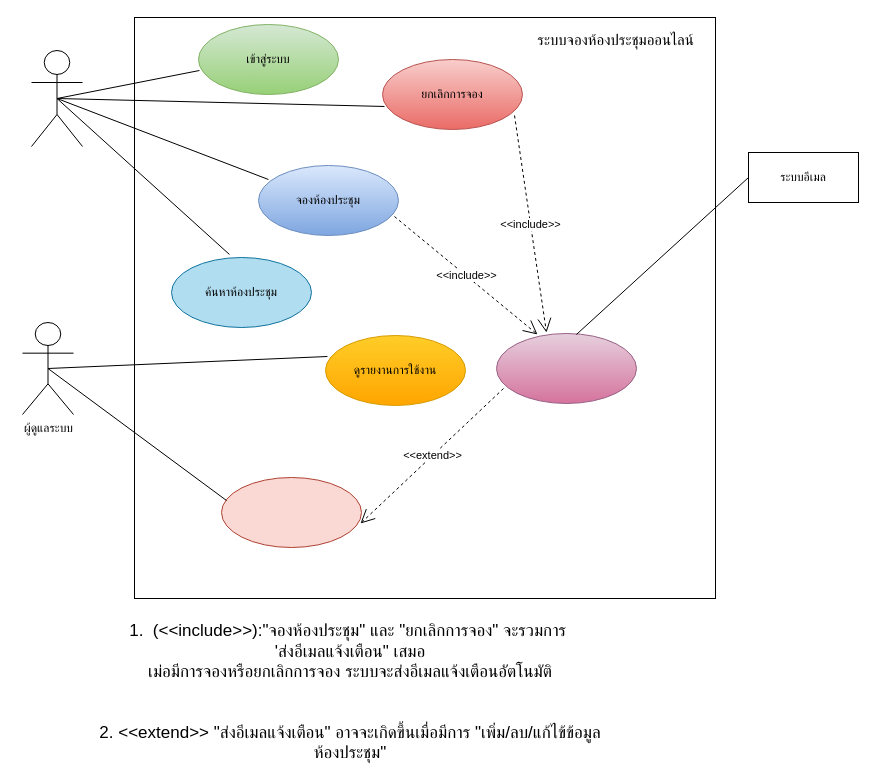
Some shapes in this 876 by 781 pixel diagram are drawn without their labels. Here are the shapes that lost their labels. From the top down, the centre of each, then its label:
the point at 56,98: พนักงาน
the point at 566,368: ส่งอีเมลแจ้งเตือนการจอง ให้อัตโนมัติ
the point at 291,512: เพิ่ม/ลบ/แก้ไขข้อมูล ห้องประชุม
